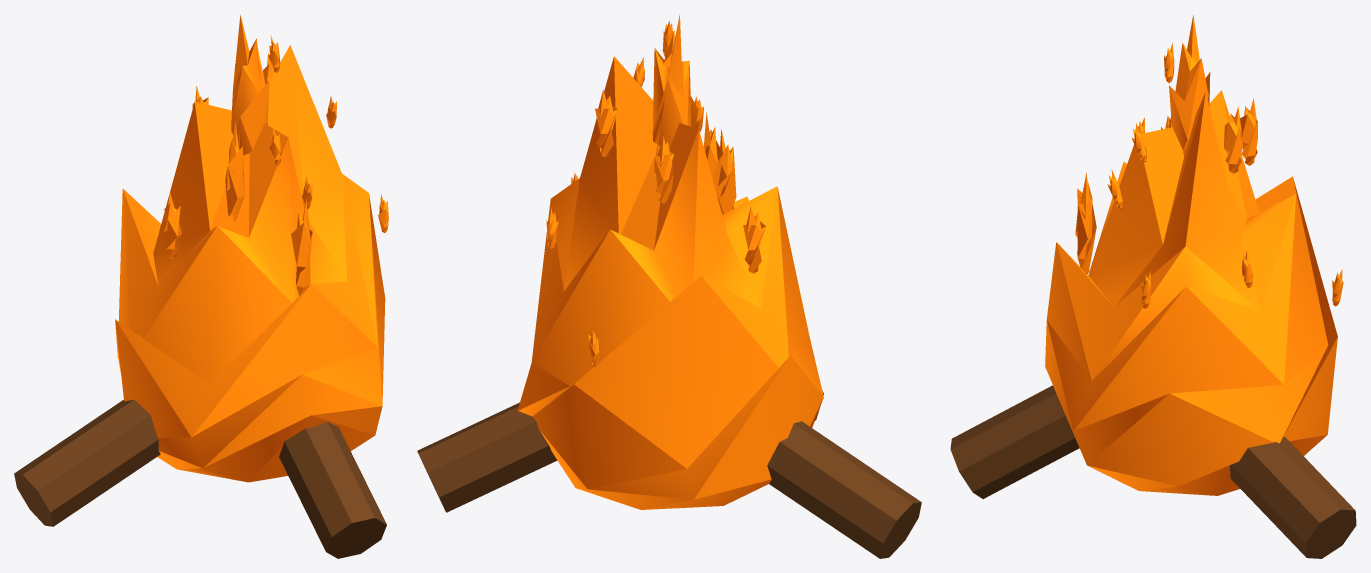
The model's file is bonfire.glb.
3 views of the same model, side by side, from view 1: azimuth 30°, elevation 25°; view 2: azimuth 150°, elevation 25°; view 3: azimuth 270°, elevation 25° (orthographic). The views are drawn at different scales.
Visible parts, largest first — view 1: pSphere1; view 2: pSphere1; view 3: pSphere1.
Boxes of the visible parts, x1=… form: pSphere1: x1=14, y1=14, x2=388, y2=558; pSphere1: x1=417, y1=14, x2=921, y2=558; pSphere1: x1=950, y1=15, x2=1356, y2=558.
Bounding box in the file's own units: 3.22 × 3.57 × 2.76.
